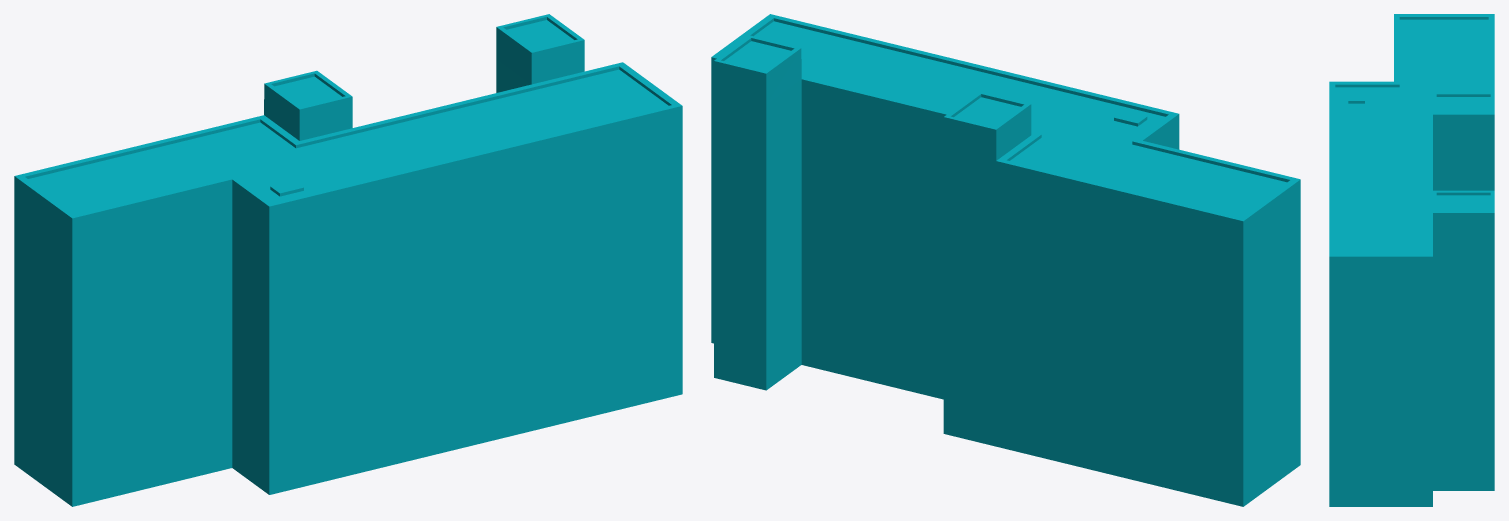
The model's file is student5.FBX.
3 views of the same model, side by side, from view 1: azimuth 30°, elevation 25°; view 2: azimuth 150°, elevation 25°; view 3: azimuth 270°, elevation 25° (orthographic). The views are drawn at different scales.
Visible parts, largest first — view 1: 学生公寓5; view 2: 学生公寓5; view 3: 学生公寓5.
Part boxes in pixels (x1,y1,x2,y2): 学生公寓5: (14,14,682,506); 学生公寓5: (711,14,1300,506); 学生公寓5: (1329,14,1494,506).
Bounding box in the file's own units: 22.87 × 12.21 × 6.57.
